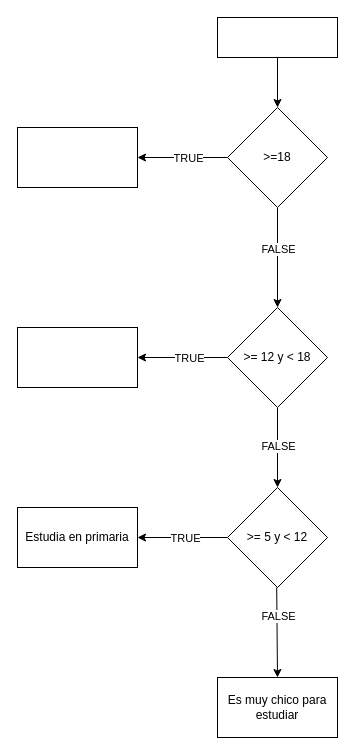
Image size: 355x755. Some labels were removed from this diagram. Each missing label, with the centre of its shape:
Edad: [277,37]
Esta en edad de trabajar: [77,157]
Estudia en secundaria: [77,357]
